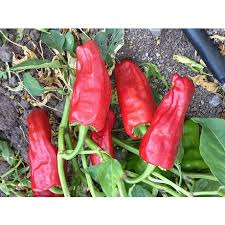Pepper: (138, 74, 194, 180), (70, 41, 112, 139), (25, 109, 63, 197)
